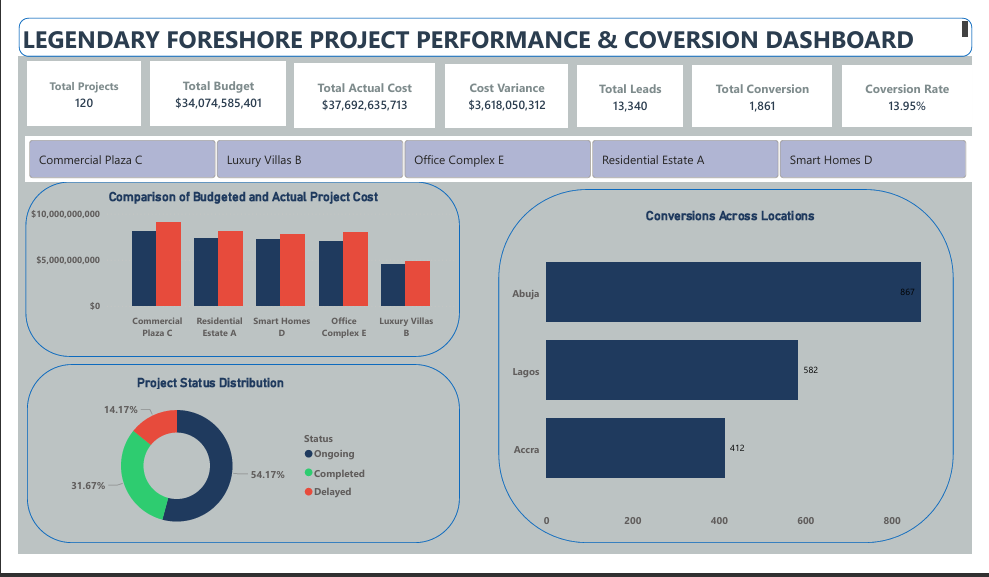

The page's visual inventory and layout, read from the dashboard file:
{"tool":"powerbi","page":{"name":"Project Overview","canvas":[1280,720],"ordinal":0},"visuals":[{"type":"textbox","box":[0,0,1280.4,51.7],"z":0},{"type":"shape","box":[0,0,1280.4,51.7],"z":1000},{"type":"cardVisual","fields":{"Data":["Sheet1.Total Projects"]},"box":[10.6,59.1,153,86.4],"z":2000},{"type":"cardVisual","fields":{"Data":["Sheet1.Total Budget"]},"box":[177.3,59.1,181.8,86.4],"z":3000},{"type":"cardVisual","fields":{"Data":["Sheet1.Coversion Rate"]},"box":[1106.1,63.6,174.2,83.3],"z":4000},{"type":"cardVisual","fields":{"Data":["Sheet1.Cost Variance"]},"box":[572.7,62.1,165.2,84.8],"z":5000},{"type":"cardVisual","fields":{"Data":["Sheet1.Total Leads"]},"box":[750,63.6,142.4,83.3],"z":6000},{"type":"cardVisual","fields":{"Data":["Sheet1.Total Actual Cost"]},"box":[369.7,60.6,189.4,86.4],"z":7000},{"type":"cardVisual","fields":{"Data":["Sheet1.Total Conversion"]},"box":[904.5,63.6,187.9,83.3],"z":8000},{"type":"clusteredColumnChart","title":"Comparison of Budgeted and Actual Project Cost","fields":{"Category":["Sheet1.Project"],"Y":["Sheet1.Total Budget","Sheet1.Total Actual Cost"]},"box":[10.6,230.3,581.8,207.6],"z":9000},{"type":"shape","box":[9.1,219.7,583.3,234.8],"z":10000},{"type":"donutChart","title":"Project Status Distribution","fields":{"Category":["Sheet1.Status"],"Y":["CountNonNull(Sheet1.Project)"]},"box":[36.4,478.8,442.4,225.8],"z":11000},{"type":"shape","box":[10.6,465.2,581.8,239.4],"z":12000},{"type":"clusteredBarChart","title":"Conversions Across Locations","fields":{"Category":["Sheet1.Location"],"Y":["Sheet1.Total Conversion"]},"box":[656.1,254.5,598.5,440.9],"z":13000},{"type":"shape","box":[643.9,230.3,610.6,474.2],"z":14000},{"type":"advancedSlicerVisual","fields":{"Values":["Sheet1.Project"]},"box":[9.1,159.1,1271.2,60.6],"z":14001}]}

Visuals, with their boxes on the page's 1280x720 design canvas (x1, y1, x2, y2). These are canvas units, not pixel positions in the 989x577 screenshot, which may show the page scaled, cropped or inside an application window:
textbox: BBox(0, 0, 1280, 52)
shape: BBox(0, 0, 1280, 52)
cardVisual - Sheet1.Total Projects: BBox(11, 59, 164, 146)
cardVisual - Sheet1.Total Budget: BBox(177, 59, 359, 146)
cardVisual - Sheet1.Coversion Rate: BBox(1106, 64, 1280, 147)
cardVisual - Sheet1.Cost Variance: BBox(573, 62, 738, 147)
cardVisual - Sheet1.Total Leads: BBox(750, 64, 892, 147)
cardVisual - Sheet1.Total Actual Cost: BBox(370, 61, 559, 147)
cardVisual - Sheet1.Total Conversion: BBox(904, 64, 1092, 147)
"Comparison of Budgeted and Actual Project Cost" clusteredColumnChart: BBox(11, 230, 592, 438)
shape: BBox(9, 220, 592, 454)
"Project Status Distribution" donutChart: BBox(36, 479, 479, 705)
shape: BBox(11, 465, 592, 705)
"Conversions Across Locations" clusteredBarChart: BBox(656, 254, 1255, 695)
shape: BBox(644, 230, 1254, 704)
advancedSlicerVisual - Sheet1.Project: BBox(9, 159, 1280, 220)
